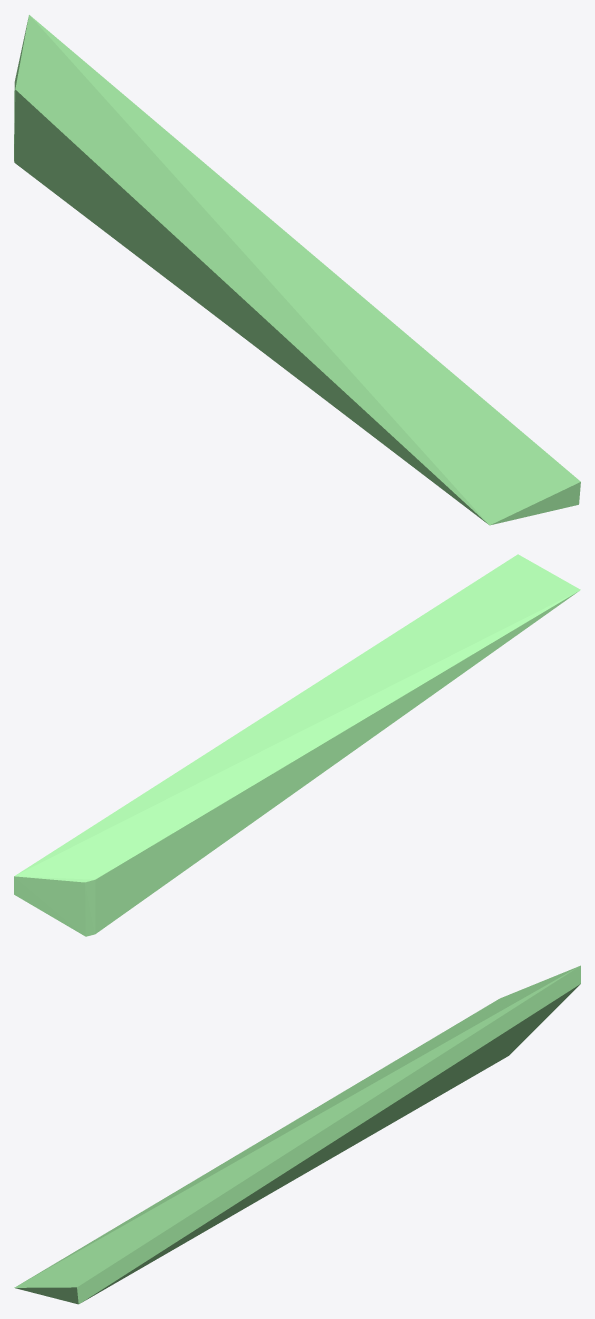
File: dxxx_L2_respondable_PSM1_coll_11.dae
3 views of the same model, one above another, from view 1: azimuth 30°, elevation 25°; view 2: azimuth 150°, elevation 25°; view 3: azimuth 330°, elevation 25° (orthographic). The views are drawn at different scales.
Visible parts, largest first — view 1: Node_000001D818CB9280; view 2: Node_000001D818CB9280; view 3: Node_000001D818CB9280.
Boxes of the visible parts, x1,y1,x2,y2 form: Node_000001D818CB9280: (14,15,580,525); Node_000001D818CB9280: (14,554,580,936); Node_000001D818CB9280: (14,965,580,1304).
Size of the model in its own units: 0.052 by 0.0318 by 0.3625.
